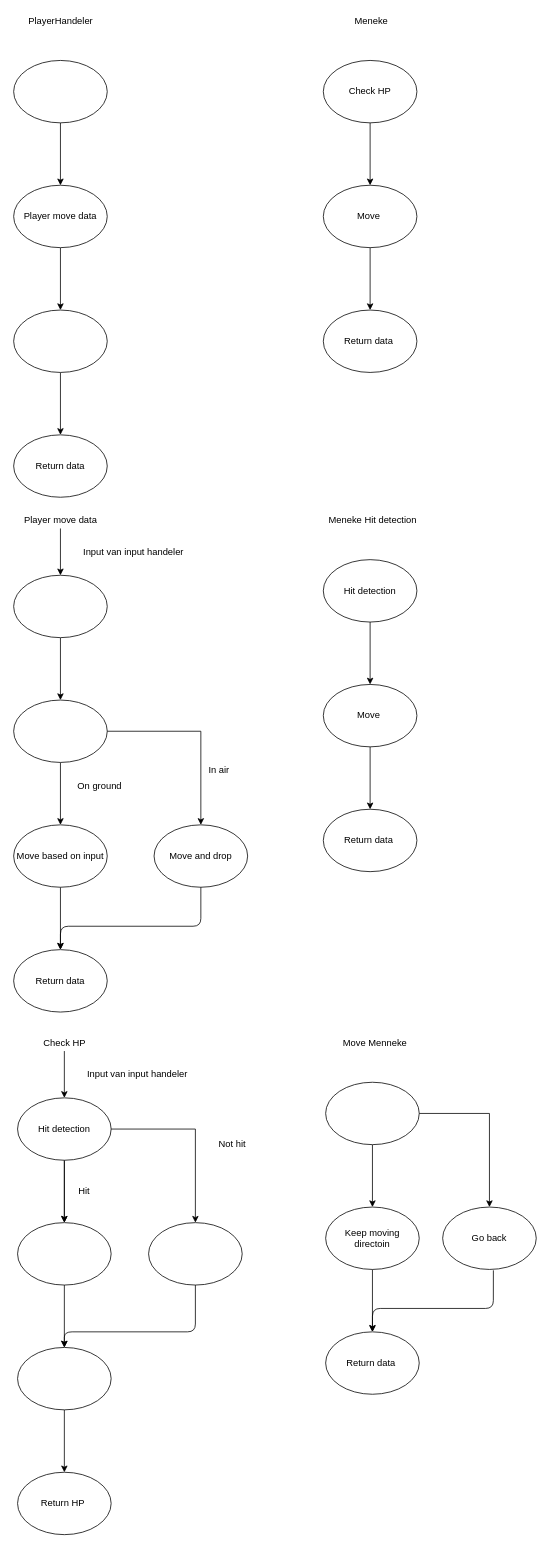
Some shapes in this 550 by 1548 pixel diagram are drawn without their labels. Each missing label, with the box of its shape:
Check if HP =< 0: (17, 1347, 111, 1410)
Check player HP: (13, 309, 107, 372)
Collision detection: (325, 1081, 419, 1145)
Input handeling: (13, 60, 107, 123)
NOP: (148, 1222, 242, 1285)
Player tile detection: (13, 699, 107, 762)
Set veloicty for player based on input: (13, 574, 107, 638)
Substract 1 hp: (17, 1222, 111, 1285)
